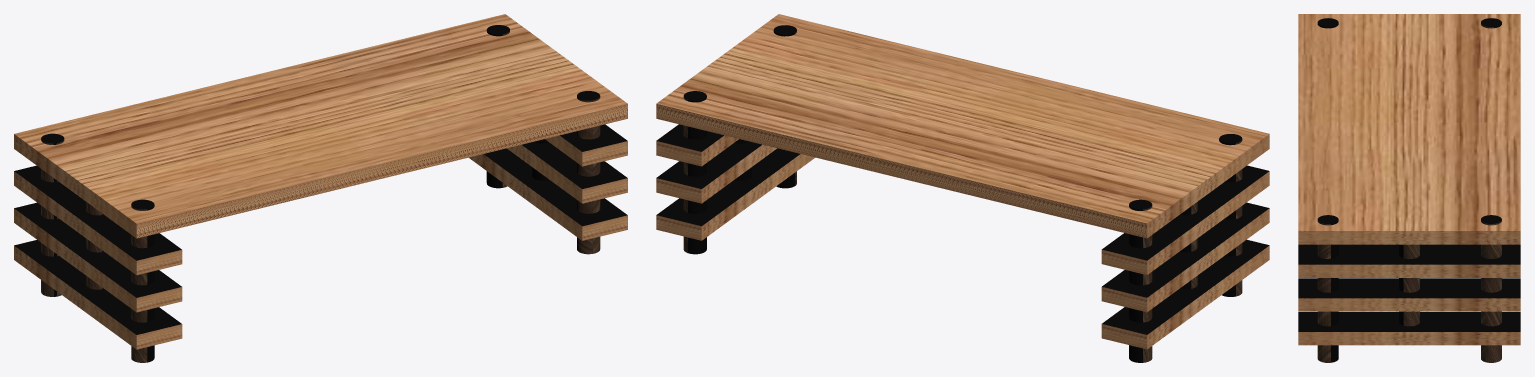
Rendered from desk09.obj.
3 renders of one model, left to right at view 1: azimuth 30°, elevation 25°; view 2: azimuth 150°, elevation 25°; view 3: azimuth 270°, elevation 25°, orthographic. The views are drawn at different scales.
Visible parts, largest first — view 1: Object.1, Object.4, Object.3, Object.2, Object.9, Object.8, Object.13, Object.5, Object.10, Object.6; view 2: Object.1, Object.4, Object.3, Object.2, Object.9, Object.8, Object.13, Object.11, Object.6, Object.5; view 3: Object.1, Object.9, Object.8, Object.13, Object.10, Object.11, Object.12, Object.5, Object.6.
Boxes of the visible parts, x1,y1,x2,y2 form: Object.1: [14, 14, 627, 238]; Object.4: [14, 240, 182, 349]; Object.3: [14, 202, 182, 312]; Object.2: [14, 165, 182, 275]; Object.9: [469, 148, 627, 240]; Object.8: [507, 142, 627, 203]; Object.13: [545, 124, 627, 166]; Object.5: [131, 199, 154, 362]; Object.10: [577, 91, 600, 254]; Object.6: [41, 133, 64, 296]; Object.1: [656, 14, 1269, 238]; Object.4: [1101, 239, 1269, 349]; Object.3: [1101, 202, 1269, 312]; Object.2: [1101, 165, 1269, 274]; Object.9: [656, 148, 814, 240]; Object.8: [656, 141, 776, 203]; Object.13: [656, 124, 738, 166]; Object.11: [683, 91, 706, 254]; Object.6: [1129, 199, 1152, 362]; Object.5: [1219, 134, 1242, 296]; Object.1: [1298, 14, 1520, 244]; Object.9: [1298, 312, 1520, 345]; Object.8: [1298, 278, 1520, 311]; Object.13: [1298, 244, 1520, 277]; Object.10: [1317, 215, 1338, 362]; Object.11: [1481, 215, 1501, 362]; Object.12: [1399, 244, 1419, 326]; Object.5: [1317, 18, 1338, 28]; Object.6: [1481, 18, 1501, 28].
Size of the model in its own units: 1189 by 355 by 514.
3 materials, 2 textured.
